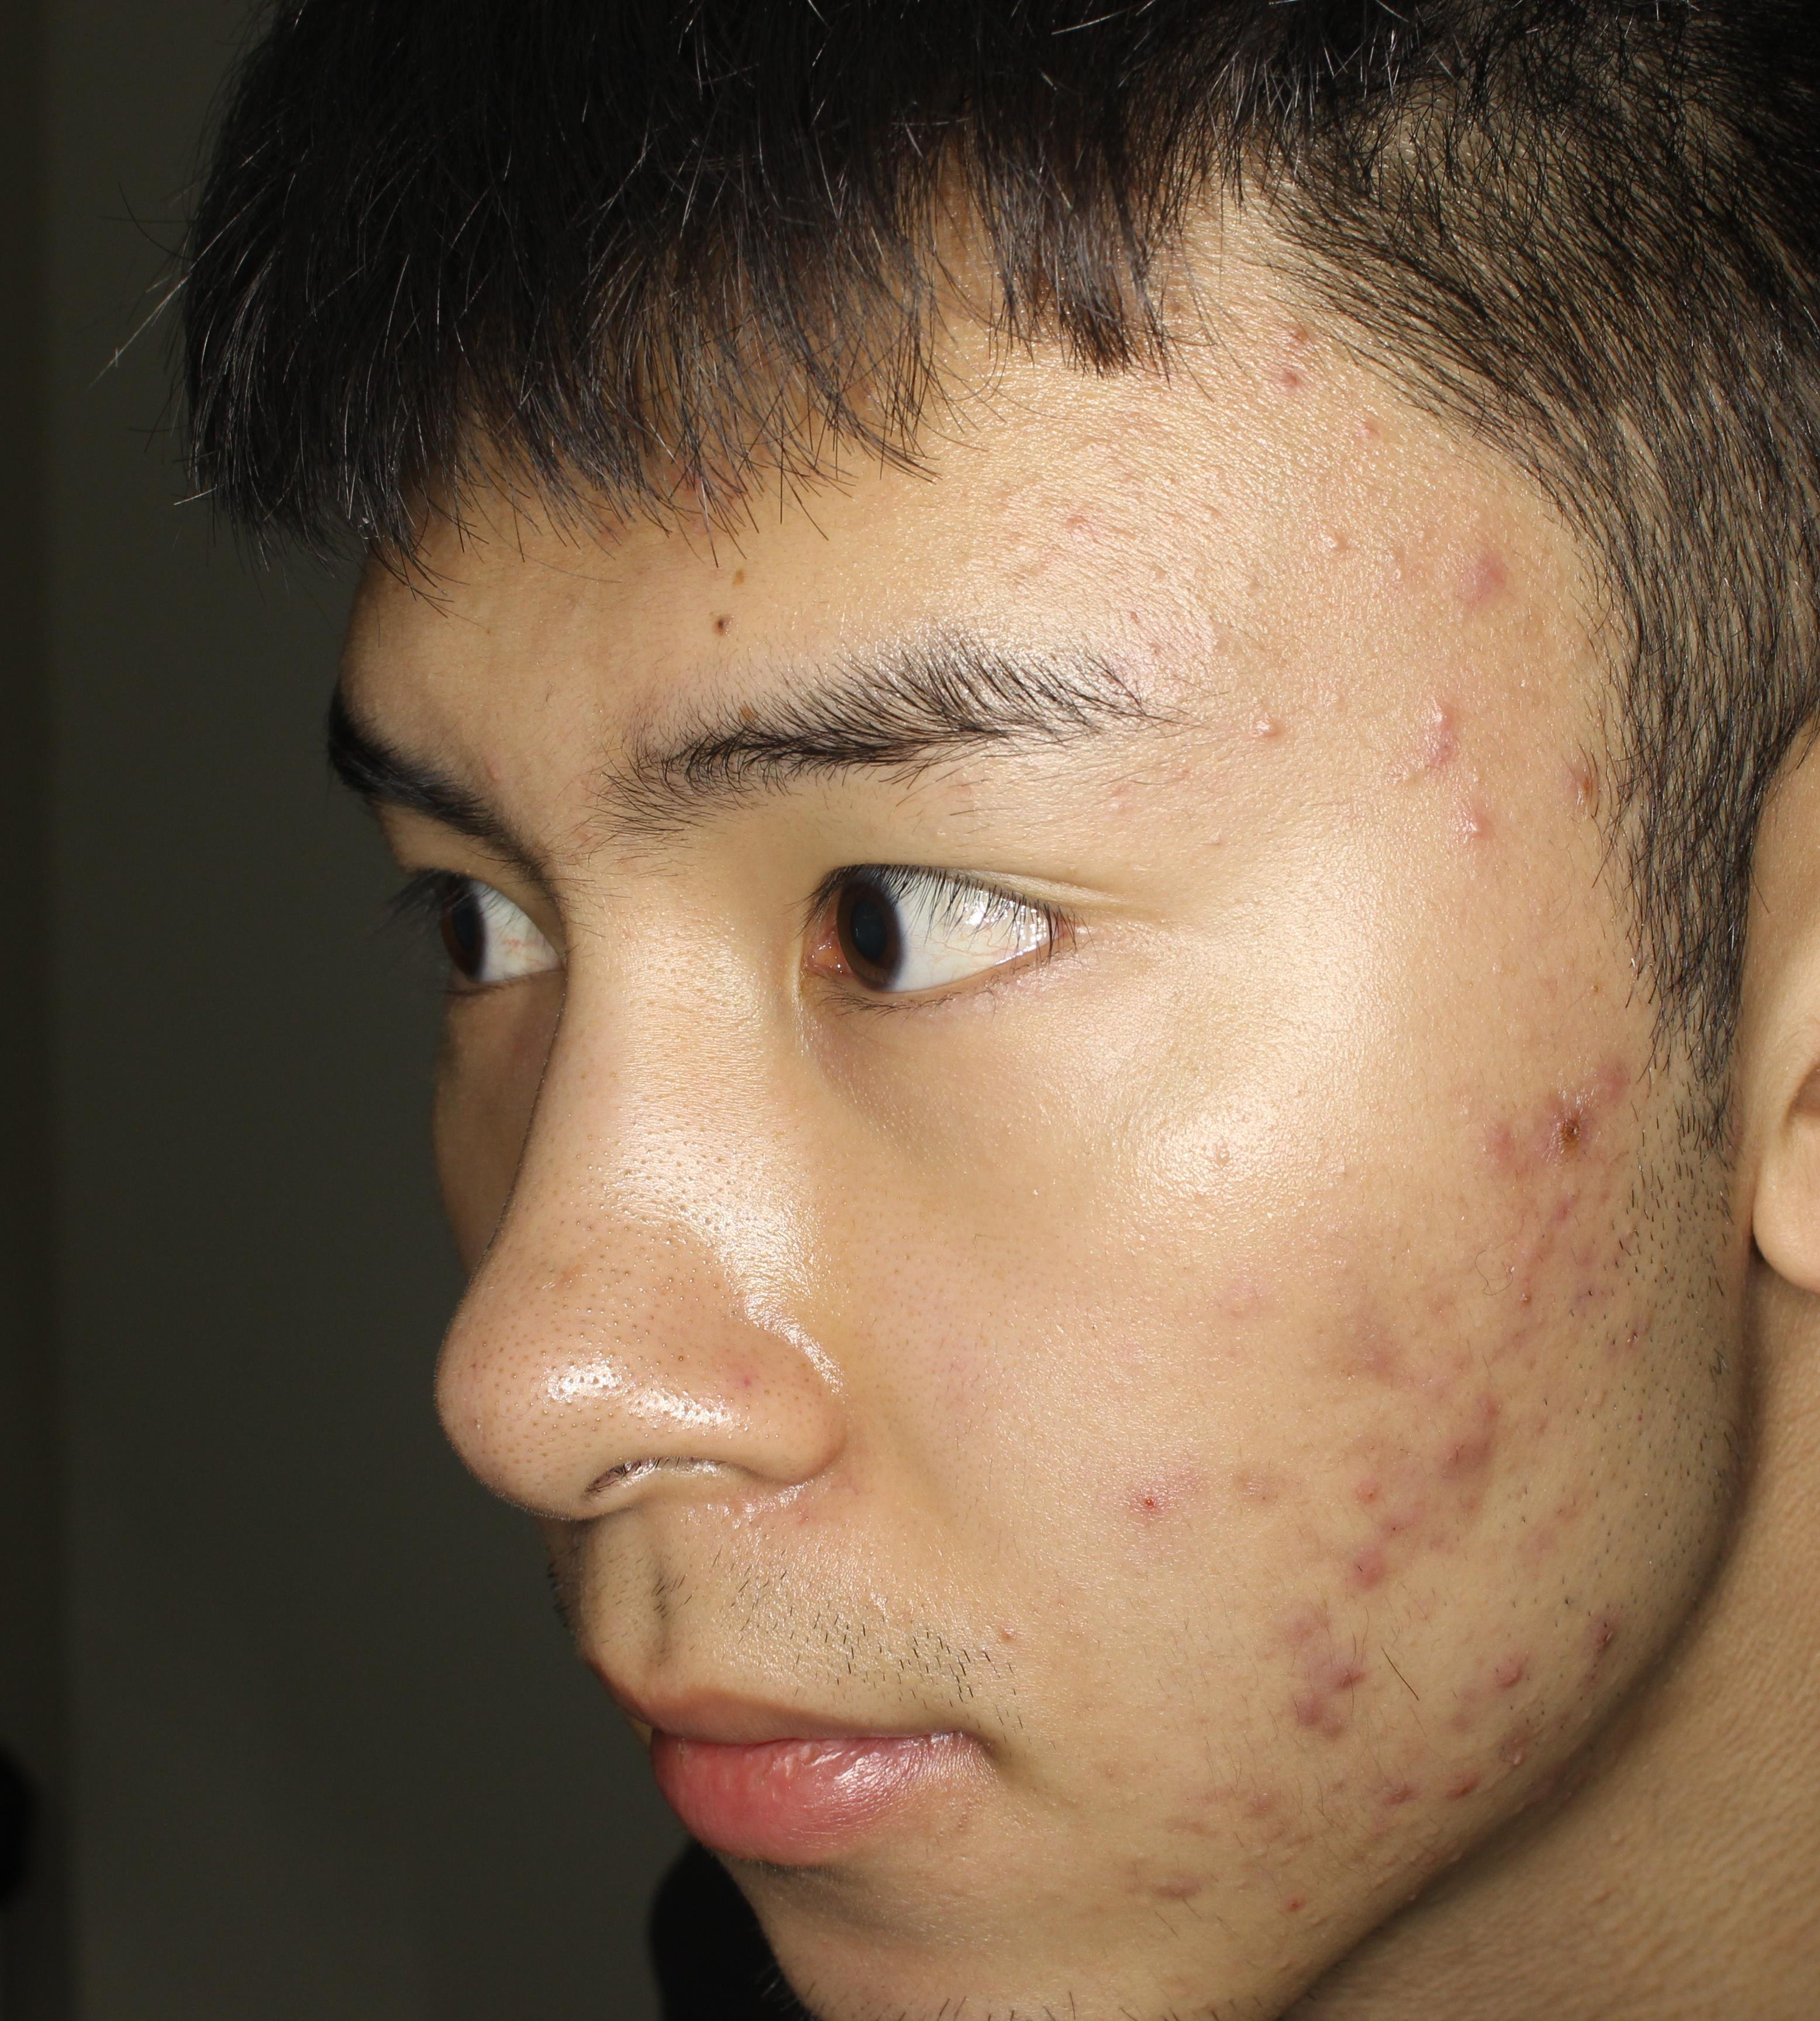fore: (1426, 523, 1539, 622), (1138, 1840, 1228, 1953), (1305, 1528, 1430, 1603), (1499, 1083, 1597, 1173), (1228, 318, 1332, 393), (1467, 1629, 1565, 1705), (1207, 1447, 1291, 1531), (1441, 778, 1511, 873), (1386, 694, 1470, 769), (1323, 1315, 1400, 1396), (1426, 1338, 1499, 1424), (1579, 1038, 1655, 1115), (1556, 752, 1627, 827), (1426, 1433, 1490, 1514), (1363, 1759, 1421, 1840), (1228, 697, 1288, 774), (1493, 1213, 1542, 1303), (1323, 1505, 1430, 1545), (1268, 1696, 1360, 1742), (1409, 1754, 1484, 1805), (1579, 1621, 1646, 1675), (1470, 1728, 1548, 1773), (1268, 1612, 1354, 1652), (1305, 1643, 1381, 1687), (1548, 1185, 1614, 1231), (1314, 1468, 1377, 1505), (1556, 1245, 1597, 1285)
